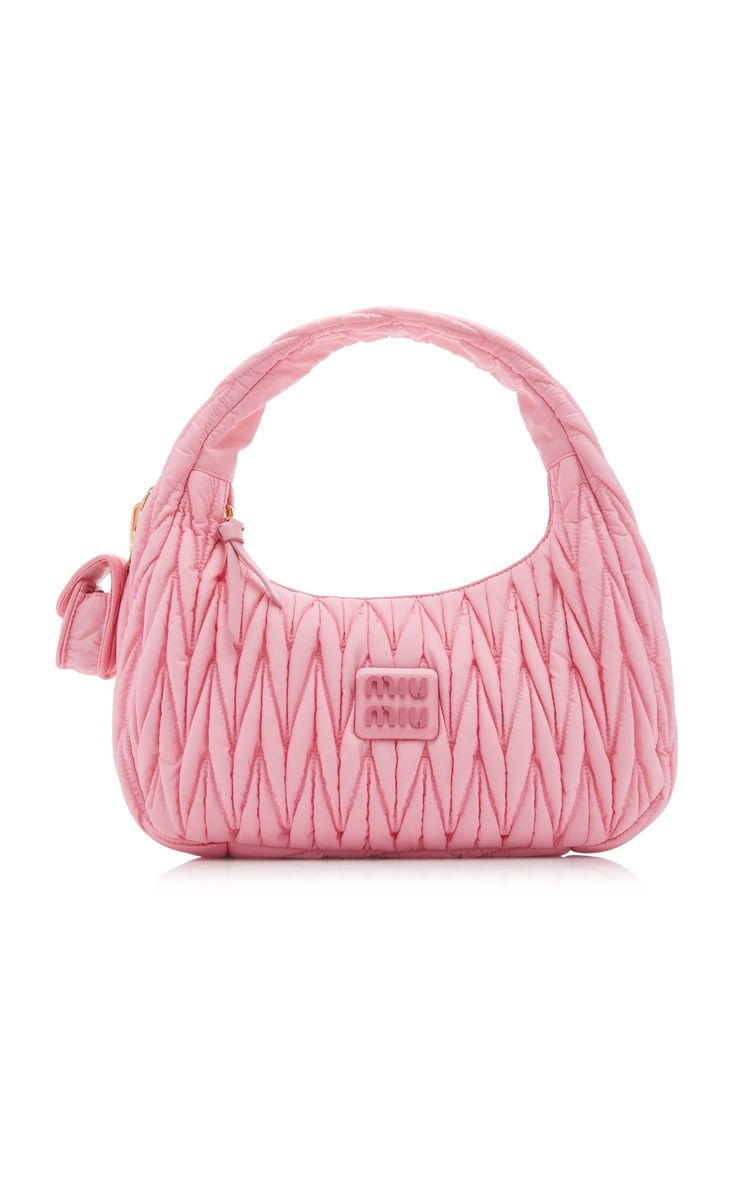nylon: (52, 308, 679, 861)
